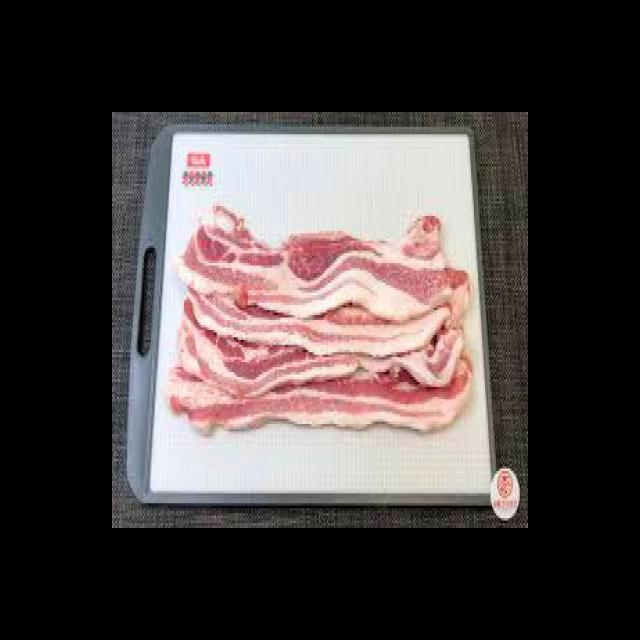pork: (189, 209, 452, 310), (172, 355, 472, 436), (178, 312, 458, 390)
